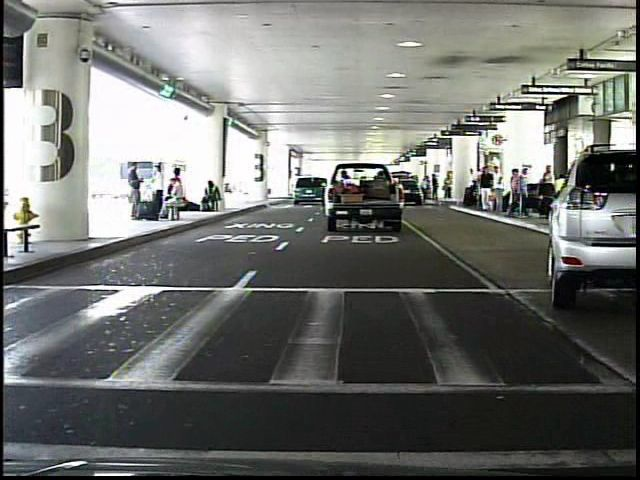person: (125, 160, 147, 225), (478, 166, 497, 218), (491, 165, 505, 217), (441, 172, 457, 205), (431, 171, 441, 203)
